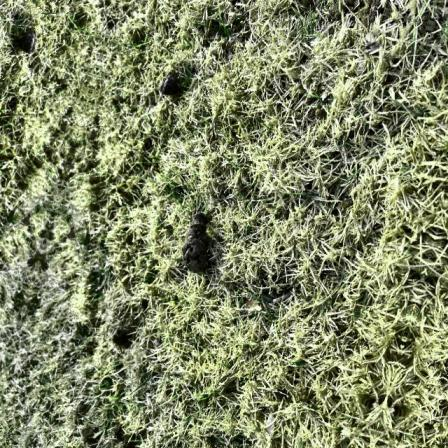dog-poop: (180, 208, 217, 273)
